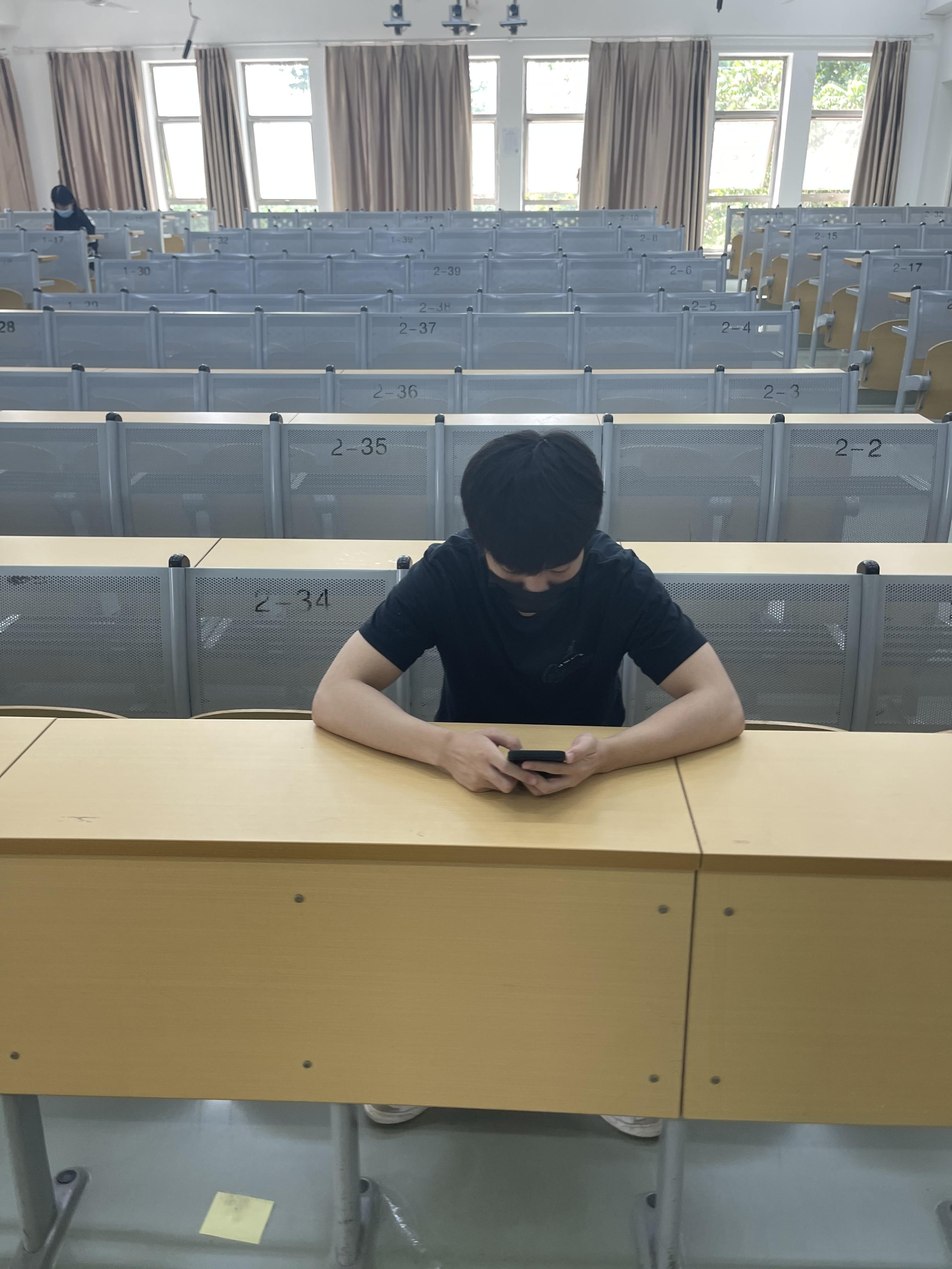phone: (310, 430, 751, 802)
study: (50, 181, 88, 233)
